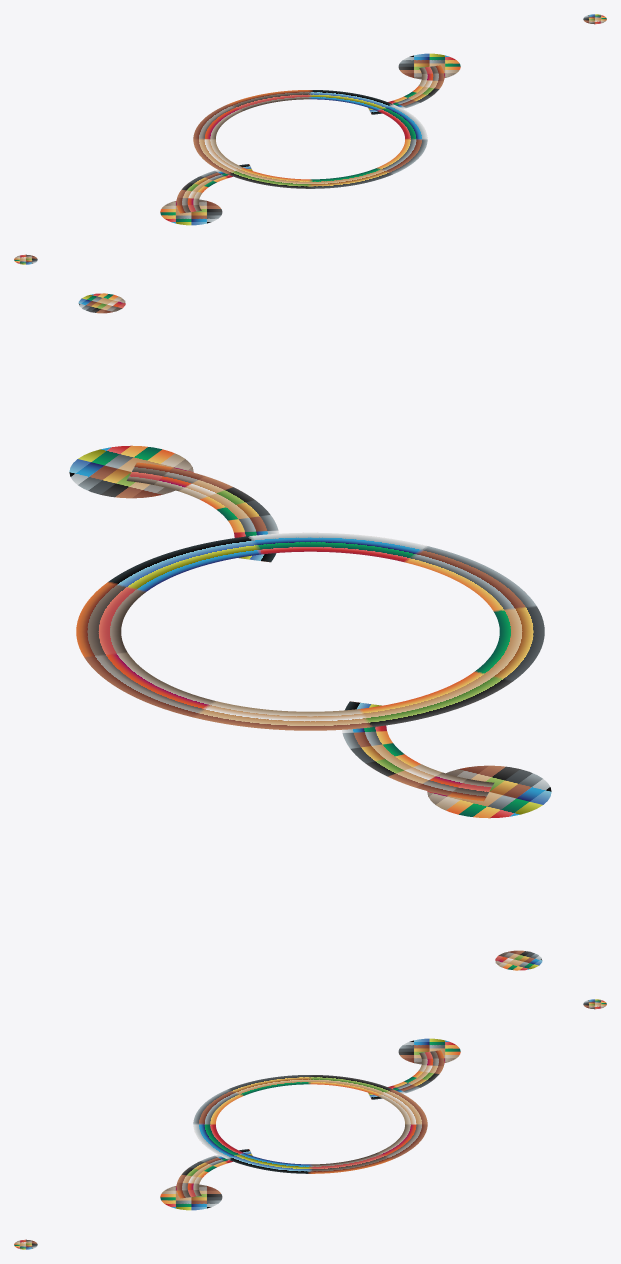
File: river_mana.glb
The picture shows the model from 3 angles, top to bottom: view 1: azimuth 90°, elevation 25°; view 2: azimuth 150°, elevation 25°; view 3: azimuth 270°, elevation 25°; orthographic projection. The views are drawn at different scales.
Visible parts, largest first — view 1: river_mana; view 2: river_mana; view 3: river_mana.
Part boxes in pixels (box(x1,y1,x2,y2)): river_mana: box(14, 14, 606, 264); river_mana: box(69, 293, 551, 970); river_mana: box(14, 999, 606, 1249).
Size of the model in its own units: 89.6 by 0.02 by 89.6.
Materials: 1 (1 with a texture image).
